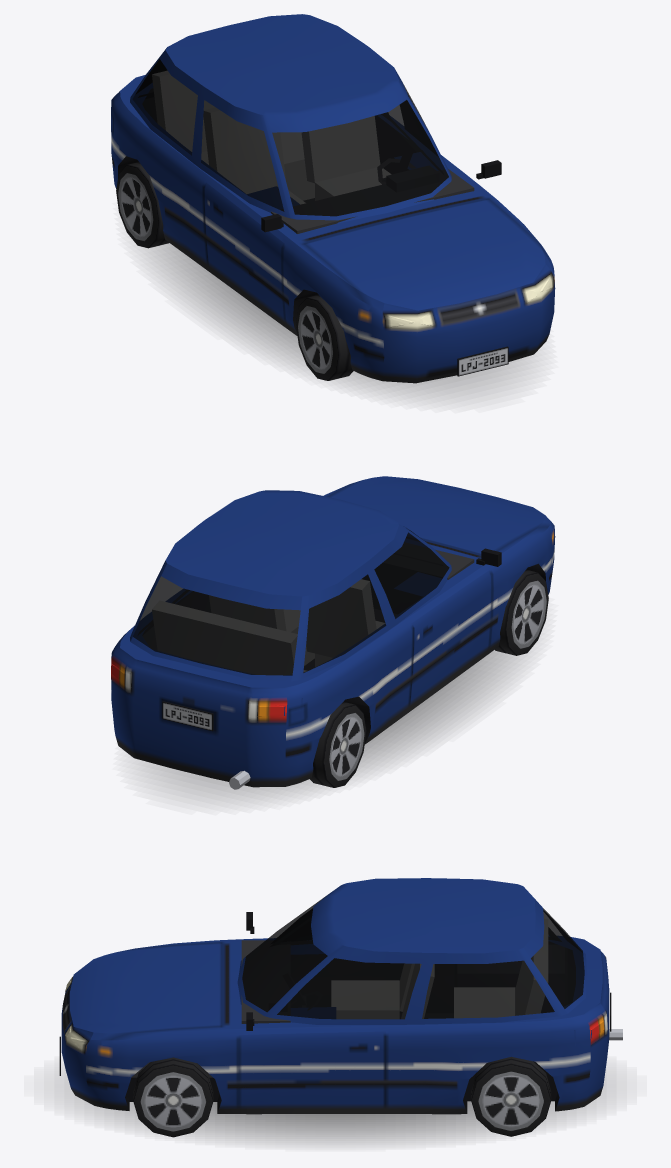
The model's file is lampejo.glb.
3 views of the same model, one above another, from view 1: azimuth 30°, elevation 25°; view 2: azimuth 150°, elevation 25°; view 3: azimuth 270°, elevation 25° (orthographic). The views are drawn at different scales.
Parts seen in each view (by area): view 1: Carroceria, Interior, Capo_malha, Porta_D_malha, Sombra, Roda_DD, Roda_TD, Porta_E_malha; view 2: Carroceria, Tampa_malha, Interior, Porta_D_malha, Capo_malha, Sombra, Roda_TD, Roda_DD, Lanterna; view 3: Carroceria, Interior, Porta_E_malha, Capo_malha, Sombra, Roda_DE, Roda_TE, Tampa_malha, Porta_D_malha.
Part boxes in pixels (bbox=[...]): Carroceria: bbox=[111, 14, 555, 383]; Interior: bbox=[138, 71, 474, 233]; Capo_malha: bbox=[304, 198, 550, 311]; Porta_D_malha: bbox=[203, 102, 290, 319]; Sombra: bbox=[148, 243, 528, 398]; Roda_DD: bbox=[296, 295, 353, 380]; Roda_TD: bbox=[116, 162, 168, 248]; Porta_E_malha: bbox=[394, 68, 501, 179]; Carroceria: bbox=[111, 479, 555, 789]; Tampa_malha: bbox=[130, 563, 301, 765]; Interior: bbox=[138, 542, 474, 674]; Porta_D_malha: bbox=[389, 524, 501, 703]; Capo_malha: bbox=[328, 476, 550, 554]; Sombra: bbox=[142, 650, 522, 800]; Roda_TD: bbox=[310, 702, 366, 787]; Roda_DD: bbox=[495, 569, 548, 655]; Lanterna: bbox=[112, 664, 302, 719]; Carroceria: bbox=[59, 878, 622, 1114]; Interior: bbox=[131, 917, 575, 1077]; Porta_E_malha: bbox=[238, 946, 385, 1106]; Capo_malha: bbox=[75, 942, 222, 1040]; Sombra: bbox=[64, 1073, 606, 1143]; Roda_DE: bbox=[133, 1057, 213, 1137]; Roda_TE: bbox=[471, 1056, 551, 1136]; Tampa_malha: bbox=[523, 899, 611, 1051]; Porta_D_malha: bbox=[246, 909, 312, 943].
Bounding box in the file's own units: 2.36 × 1.44 × 4.72.
12 materials, 6 textured.
